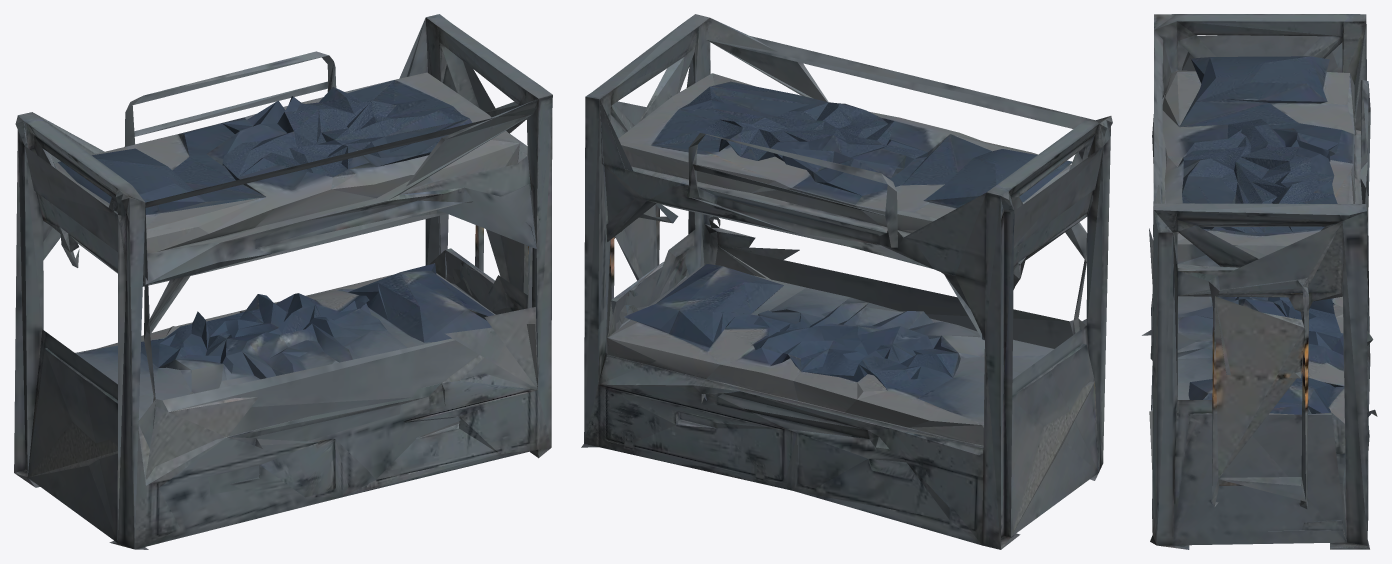
File: bunk.glb
The picture shows the model from 3 angles, left to right: view 1: azimuth 30°, elevation 25°; view 2: azimuth 150°, elevation 25°; view 3: azimuth 270°, elevation 25°; orthographic projection. The views are drawn at different scales.
Visible parts, largest first — view 1: Mesh_0; view 2: Mesh_0; view 3: Mesh_0.
Boxes of the visible parts, x1,y1,x2,y2 form: Mesh_0: (14,14,552,549); Mesh_0: (581,14,1112,549); Mesh_0: (1142,14,1377,549).
Bounding box in the file's own units: 2.1 × 1.64 × 1.03.
1 material, 1 textured.
